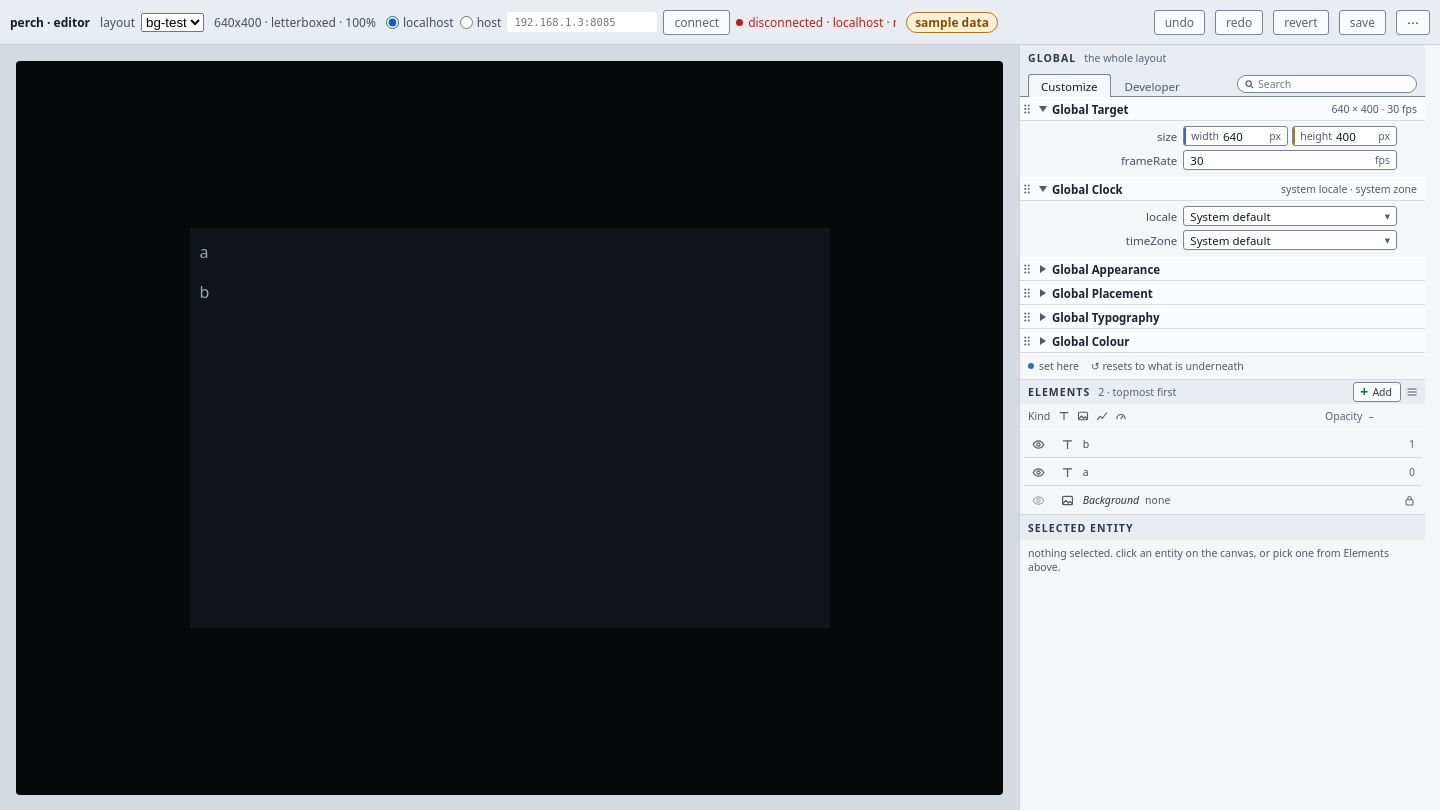
Test: the background row › shows the background source when selected, in place of an element
Click the button with test id "perch-editor-background-row": (1111, 500) [1052, 486, 1421, 514]
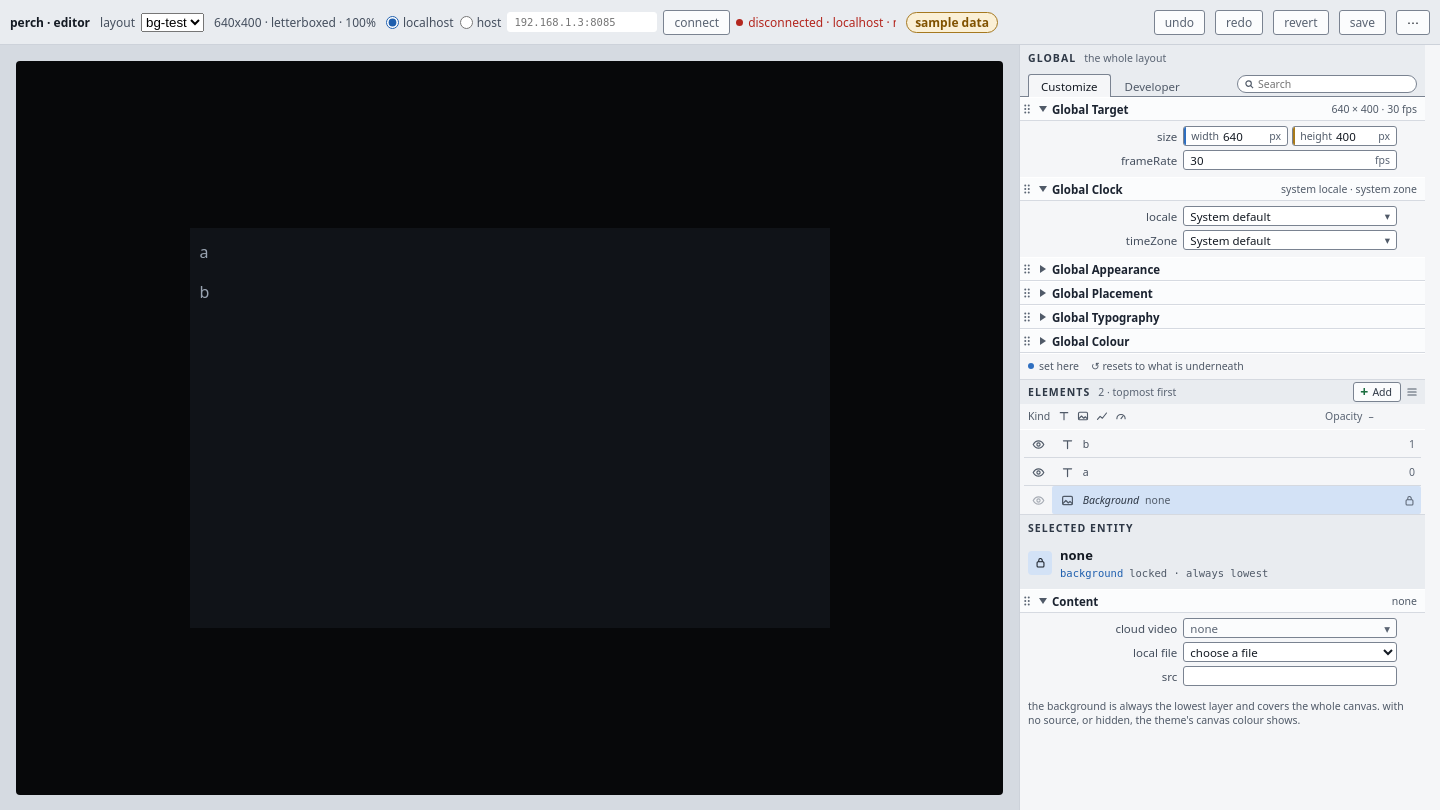
Result: the element with test id "perch-editor-prop-local" is shown at [1020, 640, 1425, 664]
Result: the element with test id "perch-editor-prop-src" is shown at [1020, 664, 1425, 688]
